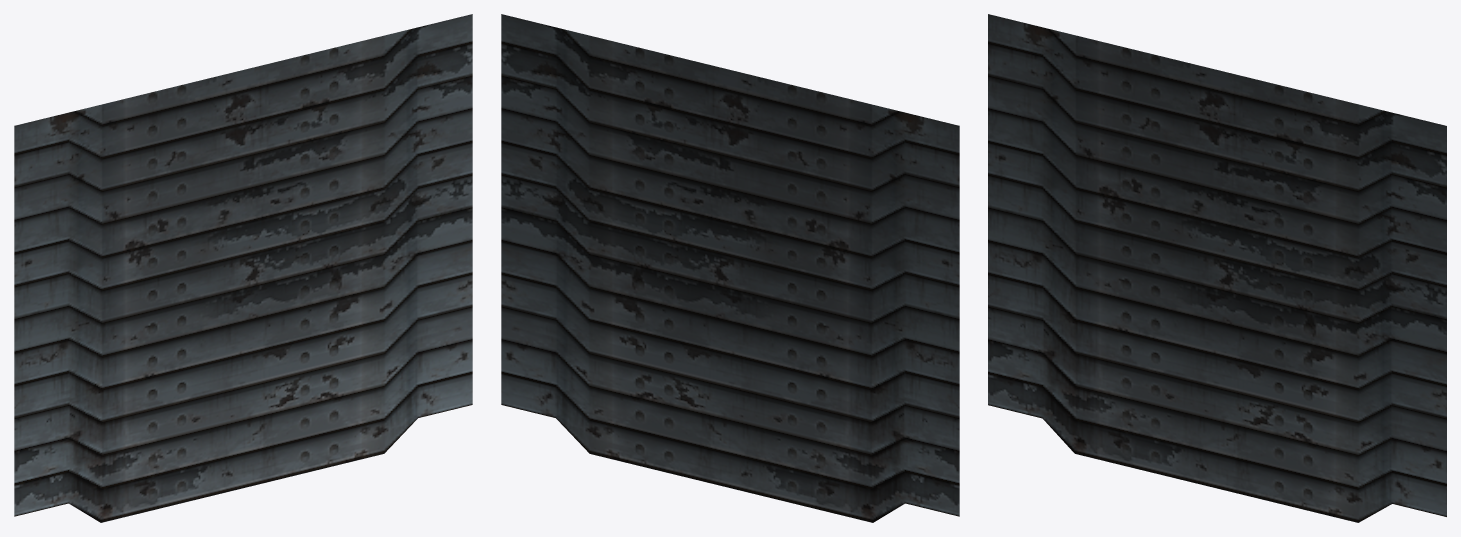
Rendered from Blind3.fbx.
The picture shows the model from 3 angles, left to right: view 1: azimuth 30°, elevation 25°; view 2: azimuth 150°, elevation 25°; view 3: azimuth 330°, elevation 25°; orthographic projection.
Visible parts, largest first — view 1: polySurface254; view 2: polySurface254; view 3: polySurface254.
Part boxes in pixels (x1=…): polySurface254: x1=14, y1=14, x2=472, y2=522; polySurface254: x1=501, y1=14, x2=959, y2=522; polySurface254: x1=988, y1=14, x2=1446, y2=522.
Bounding box in the file's own units: 0.7625 × 0.6646 × 9.31e-10.
